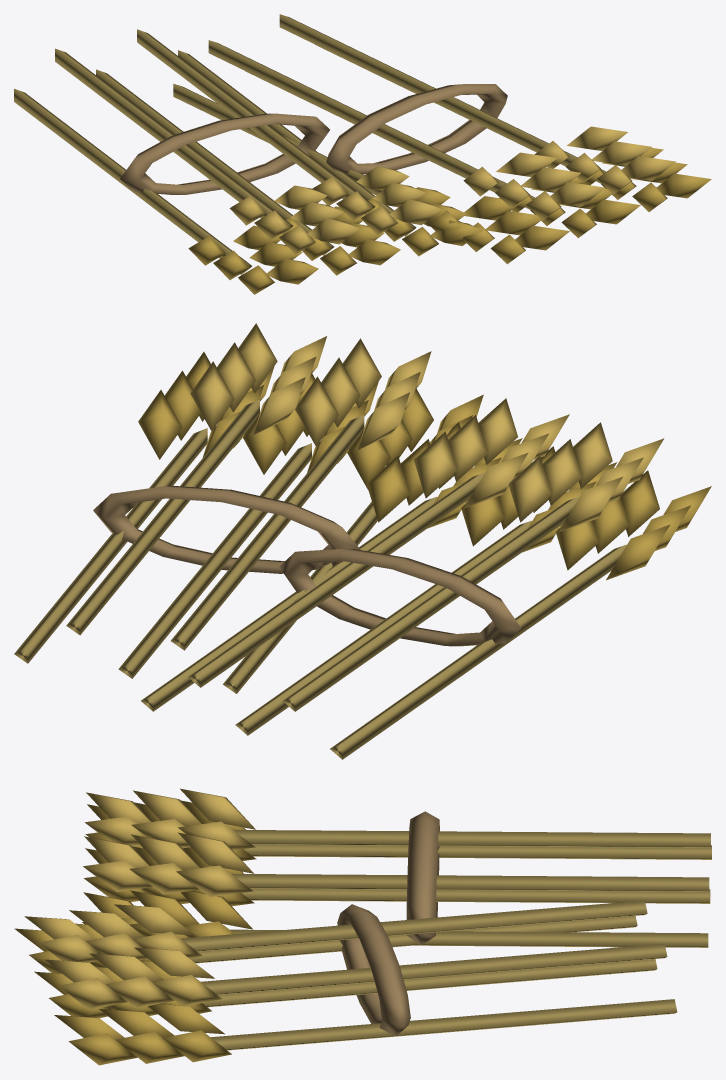
Rendered from pile-rice-2.gltf.
3 views of the same model, one above another, from view 1: azimuth 30°, elevation 25°; view 2: azimuth 150°, elevation 25°; view 3: azimuth 270°, elevation 25° (orthographic). The views are drawn at different scales.
Parts seen in each view (by area): view 1: pile-rice-2; view 2: pile-rice-2; view 3: pile-rice-2.
Part boxes in pixels (<box>): pile-rice-2: <box>14,14,711,294</box>; pile-rice-2: <box>14,323,711,759</box>; pile-rice-2: <box>14,788,711,1065</box>.
Size of the model in its own units: 0.4078 by 0.0654 by 0.4916.
